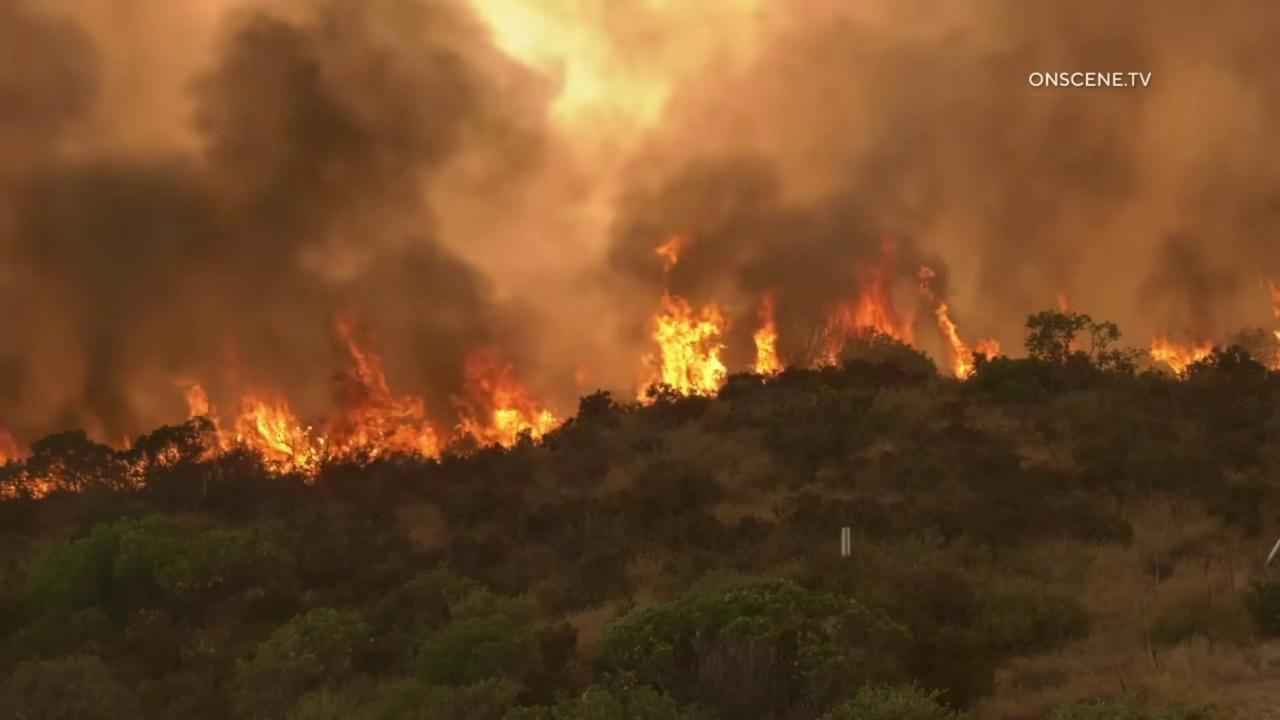fire: (0, 310, 567, 501), (809, 234, 1001, 384), (637, 287, 729, 406), (1149, 334, 1230, 383), (750, 287, 787, 383), (655, 232, 683, 272), (1268, 279, 1280, 371), (1053, 293, 1070, 315), (1067, 334, 1082, 354), (576, 367, 587, 384)
smoke: (0, 0, 1280, 462)
